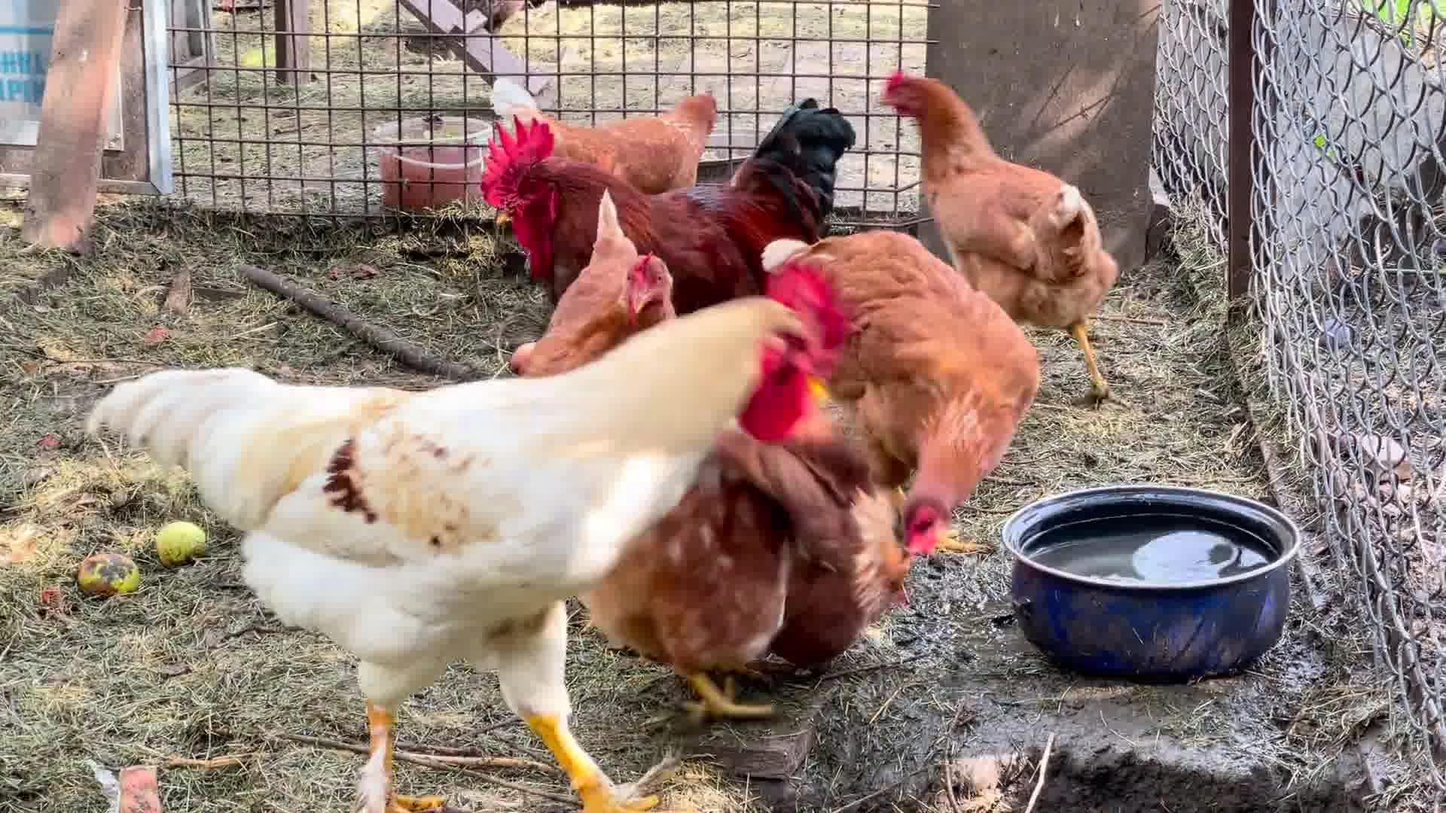Normal: (113, 264, 841, 810), (880, 57, 1189, 407), (797, 232, 1052, 575), (494, 96, 846, 304), (571, 179, 679, 334)
